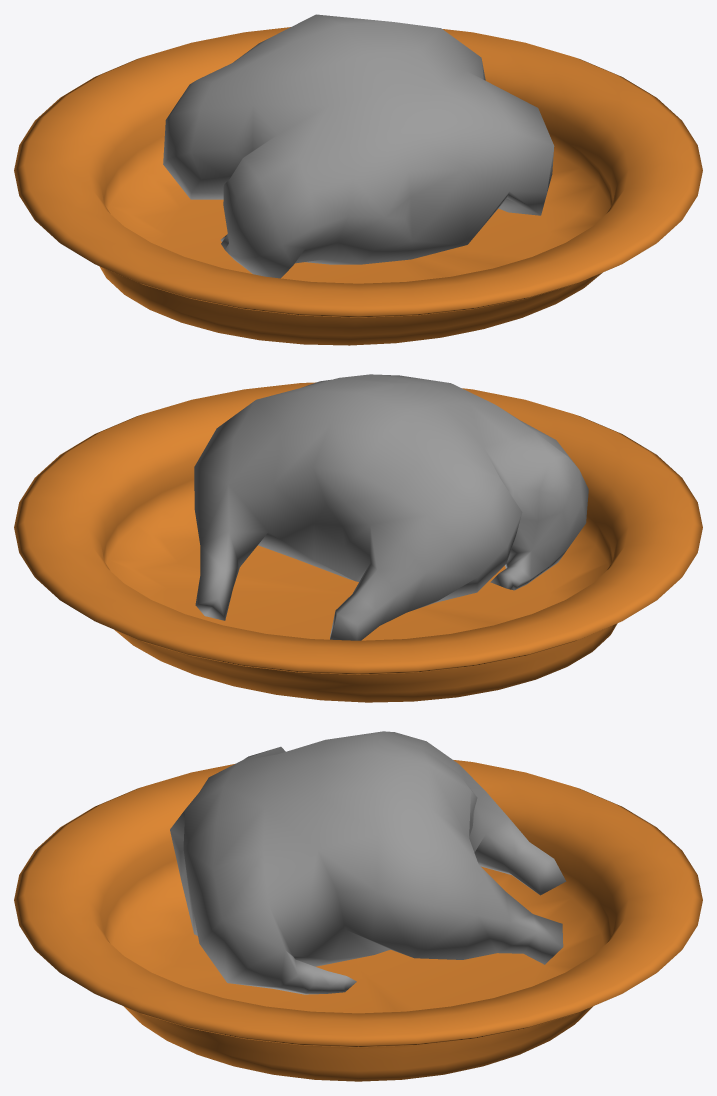
Rendered from chivken.fbx.
3 views of the same model, one above another, from view 1: azimuth 30°, elevation 25°; view 2: azimuth 150°, elevation 25°; view 3: azimuth 270°, elevation 25° (orthographic).
Visible parts, largest first — view 1: Cylinder053, rotisserie_chicken; view 2: Cylinder053, rotisserie_chicken; view 3: Cylinder053, rotisserie_chicken.
Boxes of the visible parts, box(x1,y1,x2,y2) form: Cylinder053: box(14, 27, 702, 345); rotisserie_chicken: box(163, 14, 554, 278); Cylinder053: box(14, 382, 702, 702); rotisserie_chicken: box(194, 374, 588, 640); Cylinder053: box(14, 760, 702, 1081); rotisserie_chicken: box(170, 731, 566, 994).
Bounding box in the file's own units: 9.88 × 3.49 × 9.88.
